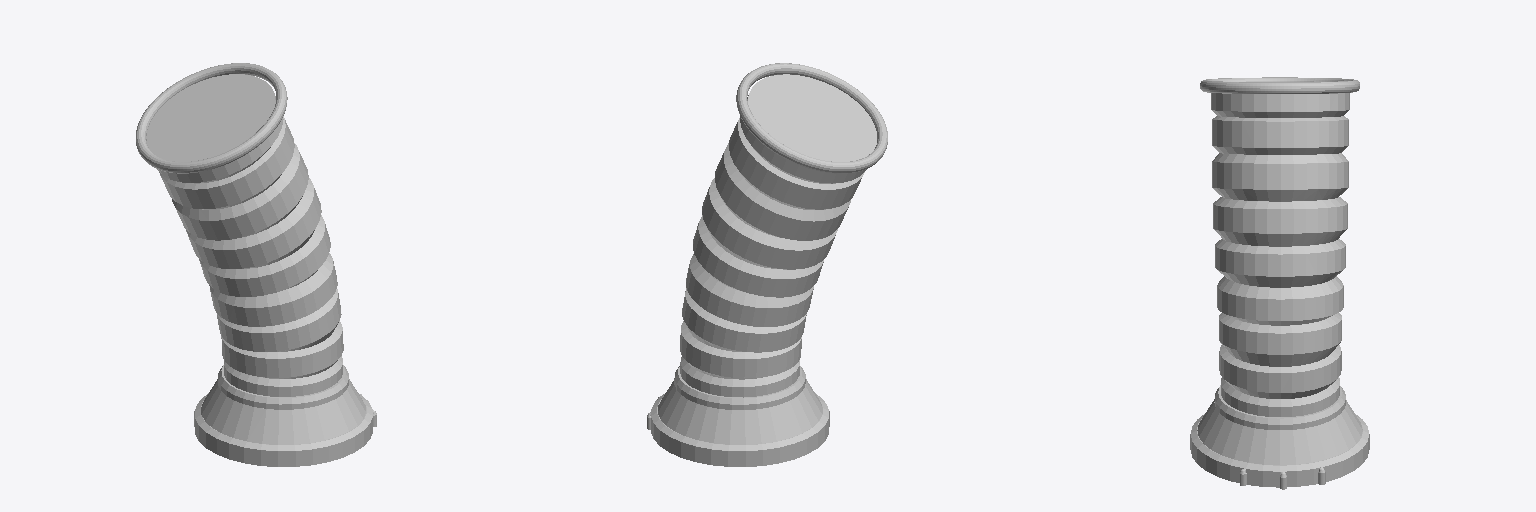
The model's file is patafrontalderecha.obj.
3 renders of one model, left to right at view 1: azimuth 30°, elevation 25°; view 2: azimuth 150°, elevation 25°; view 3: azimuth 270°, elevation 25°, orthographic.
Parts seen in each view (by area): view 1: C_rculo.001, C_rculo_009_C_rculo_010.001, C_rculo_010_C_rculo_011.001, C_rculo_003.001, C_rculo_008_C_rculo_009.001; view 2: C_rculo.001, C_rculo_009_C_rculo_010.001, C_rculo_010_C_rculo_011.001, C_rculo_003.001, C_rculo_008_C_rculo_009.001; view 3: C_rculo.001, C_rculo_009_C_rculo_010.001, C_rculo_010_C_rculo_011.001, C_rculo_003.001, C_rculo_008_C_rculo_009.001.
Part boxes in pixels (left/top/right/bottom): C_rculo.001: left=146, top=74, right=343, bottom=396; C_rculo_009_C_rculo_010.001: left=201, top=379, right=365, bottom=444; C_rculo_010_C_rculo_011.001: left=194, top=393, right=372, bottom=466; C_rculo_003.001: left=136, top=63, right=287, bottom=173; C_rculo_008_C_rculo_009.001: left=218, top=365, right=348, bottom=409; C_rculo.001: left=680, top=74, right=876, bottom=397; C_rculo_009_C_rculo_010.001: left=658, top=379, right=822, bottom=444; C_rculo_010_C_rculo_011.001: left=651, top=393, right=829, bottom=466; C_rculo_003.001: left=736, top=63, right=887, bottom=173; C_rculo_008_C_rculo_009.001: left=674, top=366, right=805, bottom=409; C_rculo.001: left=1211, top=93, right=1349, bottom=416; C_rculo_009_C_rculo_010.001: left=1197, top=399, right=1362, bottom=464; C_rculo_010_C_rculo_011.001: left=1190, top=414, right=1369, bottom=487; C_rculo_003.001: left=1200, top=77, right=1359, bottom=93; C_rculo_008_C_rculo_009.001: left=1215, top=385, right=1345, bottom=429.
Size of the model in its own units: 1.45 by 2.29 by 1.03.